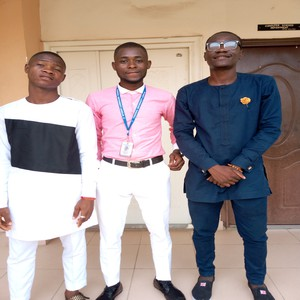Fulokoja_male_student: (174, 33, 273, 300), (99, 43, 178, 297), (6, 51, 89, 289)
